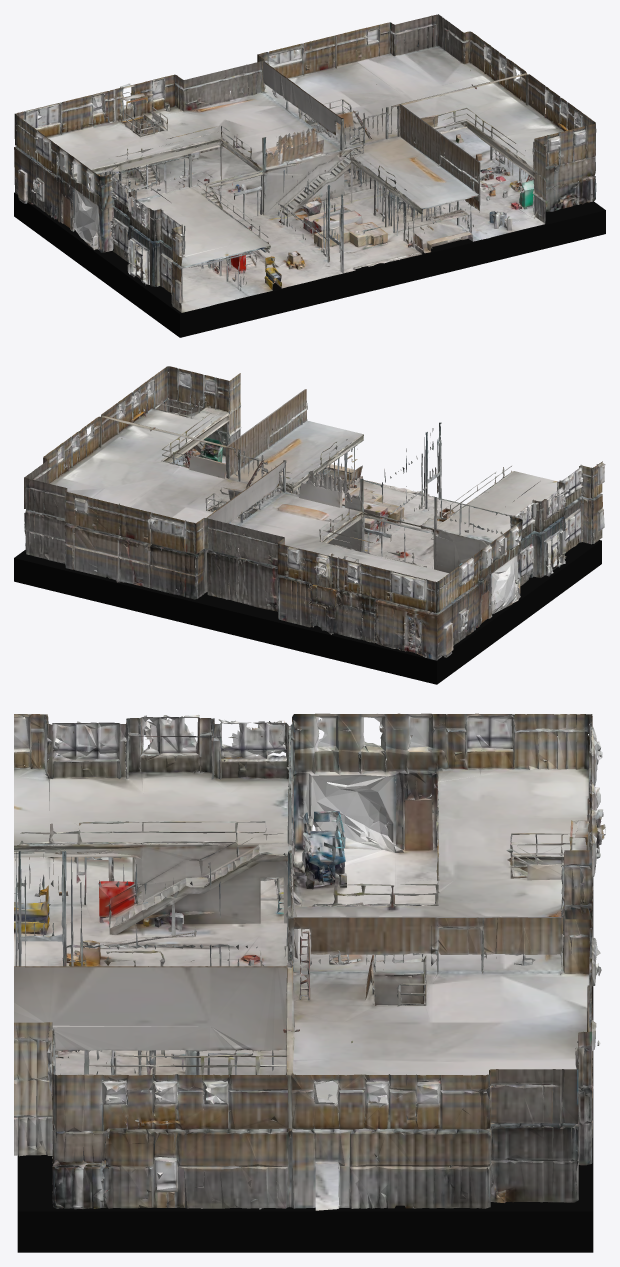
Rendered from Building2.glb.
3 renders of one model, top to bottom at view 1: azimuth 30°, elevation 25°; view 2: azimuth 150°, elevation 25°; view 3: azimuth 270°, elevation 25°, orthographic. The views are drawn at different scales.
Parts seen in each view (by area): view 1: building, Cube.002; view 2: building, Cube.002; view 3: building, Cube.002.
Part boxes in pixels (x1,y1,x2,y2): building: [14, 14, 596, 312]; Cube.002: [14, 192, 605, 337]; building: [24, 366, 605, 660]; Cube.002: [14, 454, 601, 684]; building: [14, 713, 605, 1210]; Cube.002: [17, 877, 593, 1252].
Bounding box in the file's own units: 38.56 × 8.7 × 26.09.
2 materials, 1 textured.
